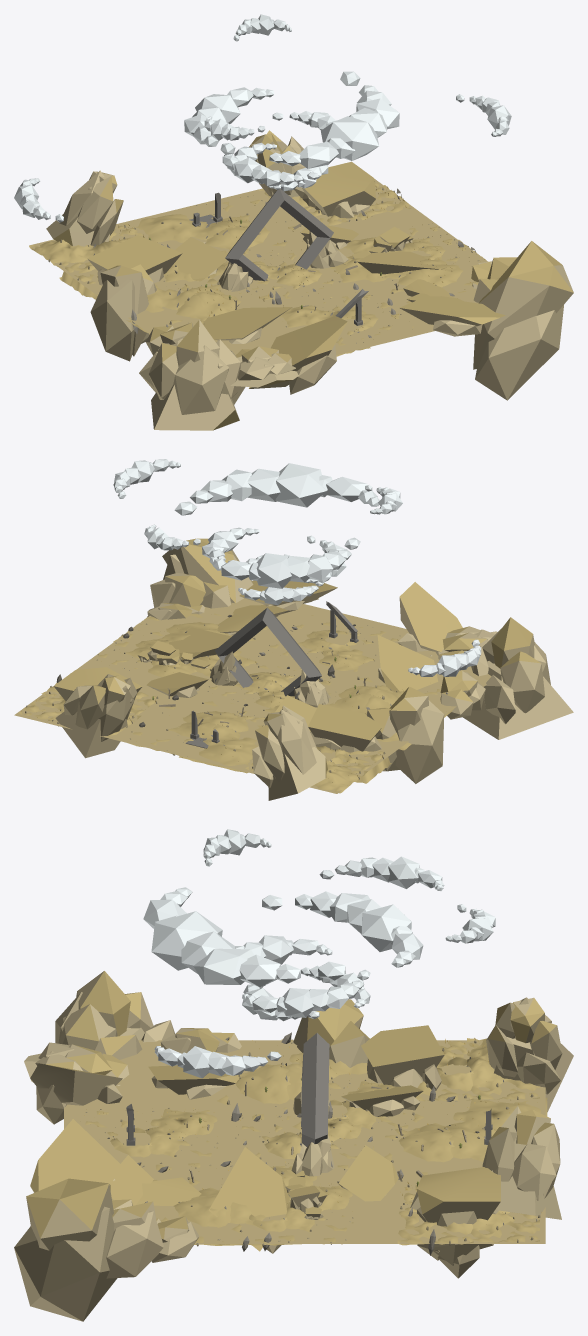
The picture shows the model from 3 angles, top to bottom: view 1: azimuth 30°, elevation 25°; view 2: azimuth 150°, elevation 25°; view 3: azimuth 270°, elevation 25°; orthographic projection. The views are drawn at different scales.
Visible parts, largest first — view 1: cliffsmountains, desertsand, Clouds, Landscape8, Knite, Landscape6, Landscape7, Landscape2, Landscape5, Landscape, Landscape1, Landscape4 (+1 smaller); view 2: cliffsmountains, desertsand, Clouds, Landscape8, Knite, Landscape2, Landscape6, Landscape5, Landscape, Landscape7, Landscape1, Landscape4 (+2 smaller); view 3: cliffsmountains, desertsand, Clouds, Landscape8, Landscape2, Landscape6, Landscape5, Landscape1, Knite, Landscape7, Landscape4, Landscape (+1 smaller).
Part boxes in pixels (x1,y1,x2,y2): cliffsmountains: (46,130,573,430); desertsand: (29,178,487,354); Clouds: (14,14,511,222); Landscape8: (133,196,301,257); Knite: (225,189,333,281); Landscape6: (90,275,283,334); Landscape7: (330,234,486,314); Landscape2: (29,223,169,297); Landscape5: (279,295,413,356); Landscape: (247,249,355,304); Landscape1: (259,180,413,225); Landscape4: (343,224,480,280); cliffsmountains: (53,538,573,800); desertsand: (14,598,491,793); Clouds: (113,459,481,676); Landscape8: (129,695,274,773); Knite: (215,607,321,696); Landscape2: (245,746,391,793); Landscape6: (295,664,453,750); Landscape5: (268,615,400,671); Landscape: (208,658,335,708); Landscape7: (114,613,297,676); Landscape1: (18,673,158,737); Landscape4: (97,620,196,677); cliffsmountains: (14,971,573,1321); desertsand: (64,1040,545,1243); Clouds: (143,829,495,1078); Landscape8: (367,1096,547,1179); Landscape2: (415,1038,539,1101); Landscape6: (217,1032,378,1121); Landscape5: (84,1107,218,1168); Landscape1: (397,1182,541,1255); Knite: (301,1033,329,1146); Landscape7: (137,1161,316,1250); Landscape4: (211,1183,353,1251); Landscape: (235,1113,364,1170).
Bounding box in the file's own units: 19.42 × 11.74 × 17.22.
